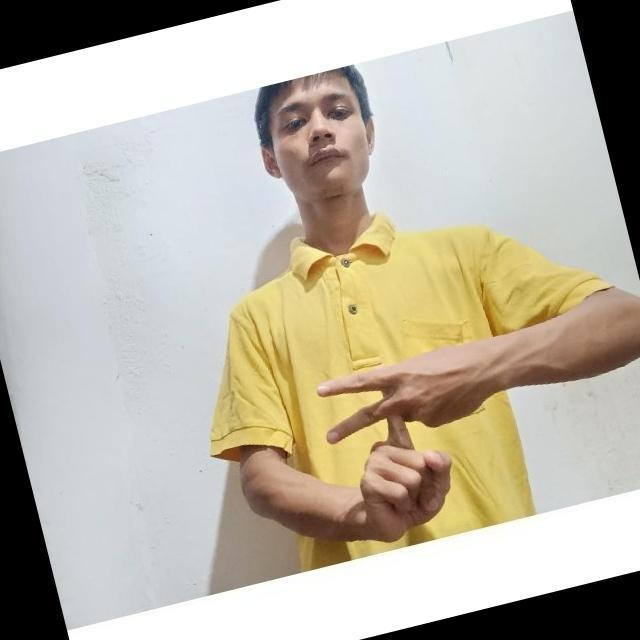F: (315, 353, 472, 544)
